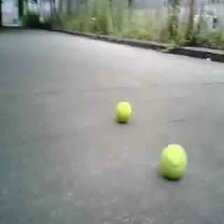tennis: (160, 144, 186, 178), (117, 103, 133, 123)
